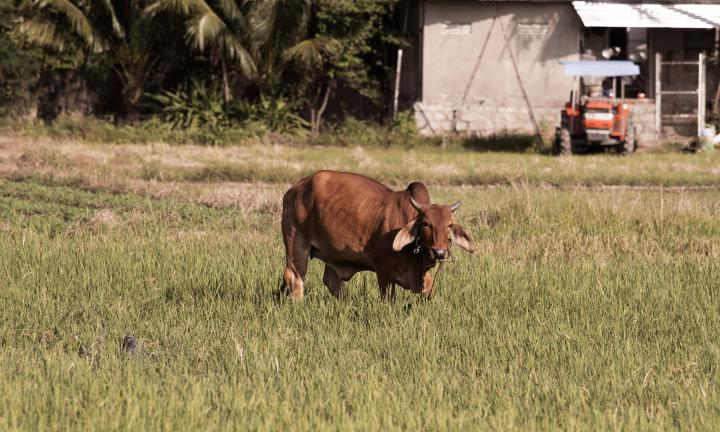Brahman: (282, 170, 475, 299)
